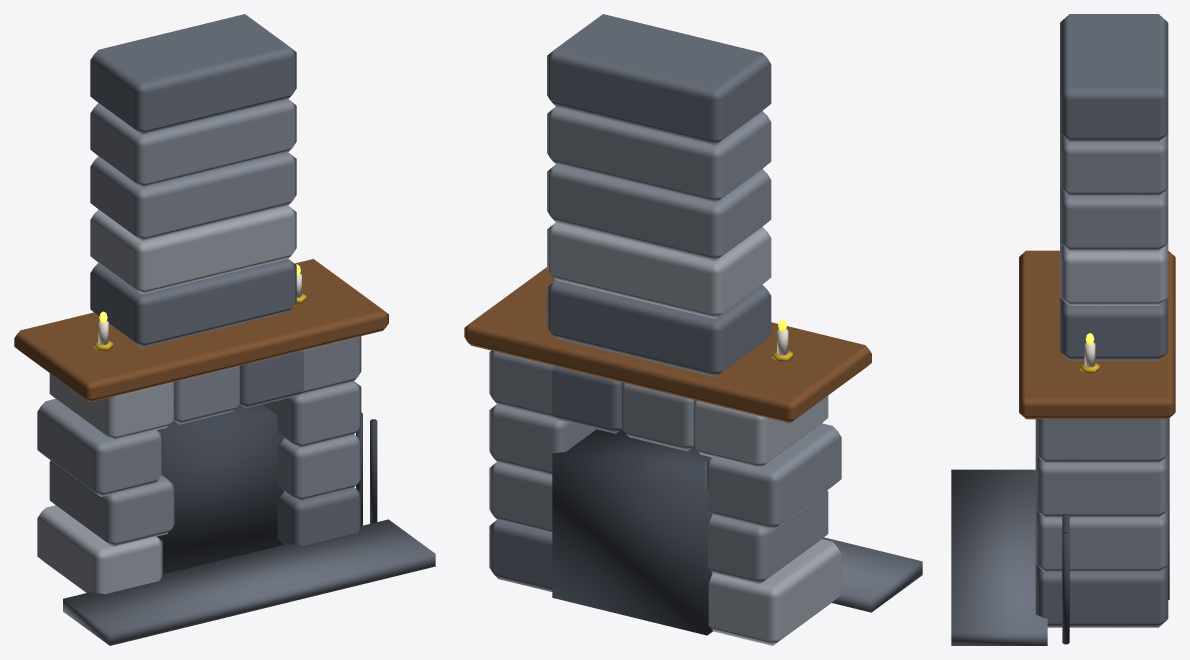
Rendered from hearth.glb.
The picture shows the model from 3 angles, left to right: view 1: azimuth 30°, elevation 25°; view 2: azimuth 150°, elevation 25°; view 3: azimuth 270°, elevation 25°; orthographic projection. The views are drawn at different scales.
Visible parts, largest first — view 1: hearth; view 2: hearth; view 3: hearth.
Part boxes in pixels (box(x1,y1,x2,y2)): hearth: box(14, 14, 435, 645); hearth: box(464, 14, 922, 645); hearth: box(951, 14, 1175, 645).
Bounding box in the file's own units: 1.6 × 2.35 × 0.93.
